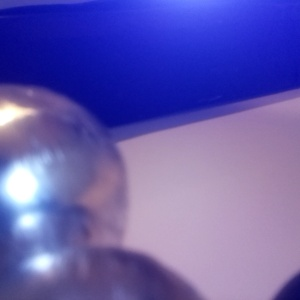alive_ball: (164, 5, 206, 50)
